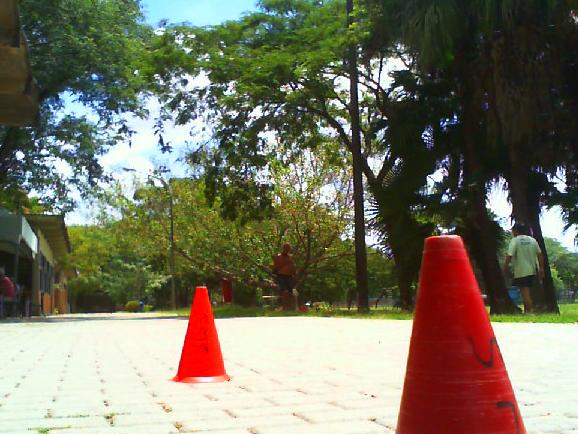0 cone: (390, 236, 539, 434), (170, 287, 230, 382)
